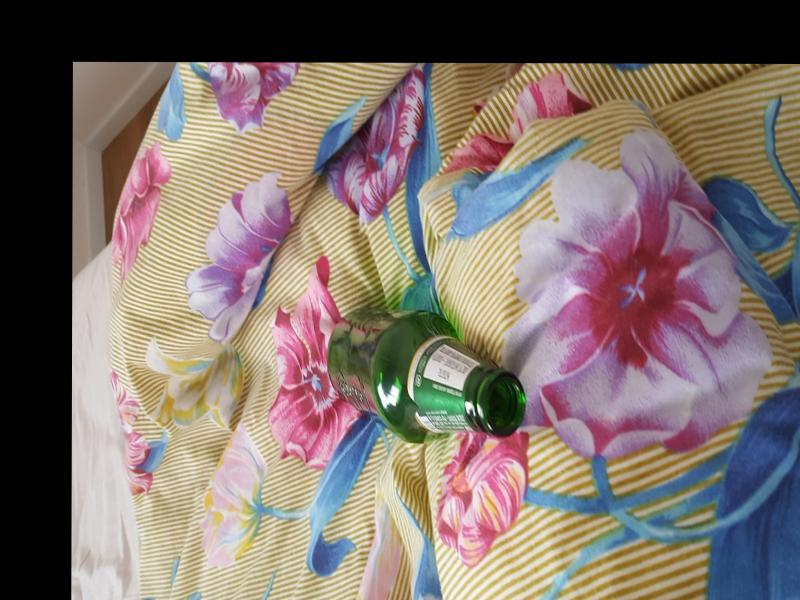Beer: (327, 314, 525, 443)
